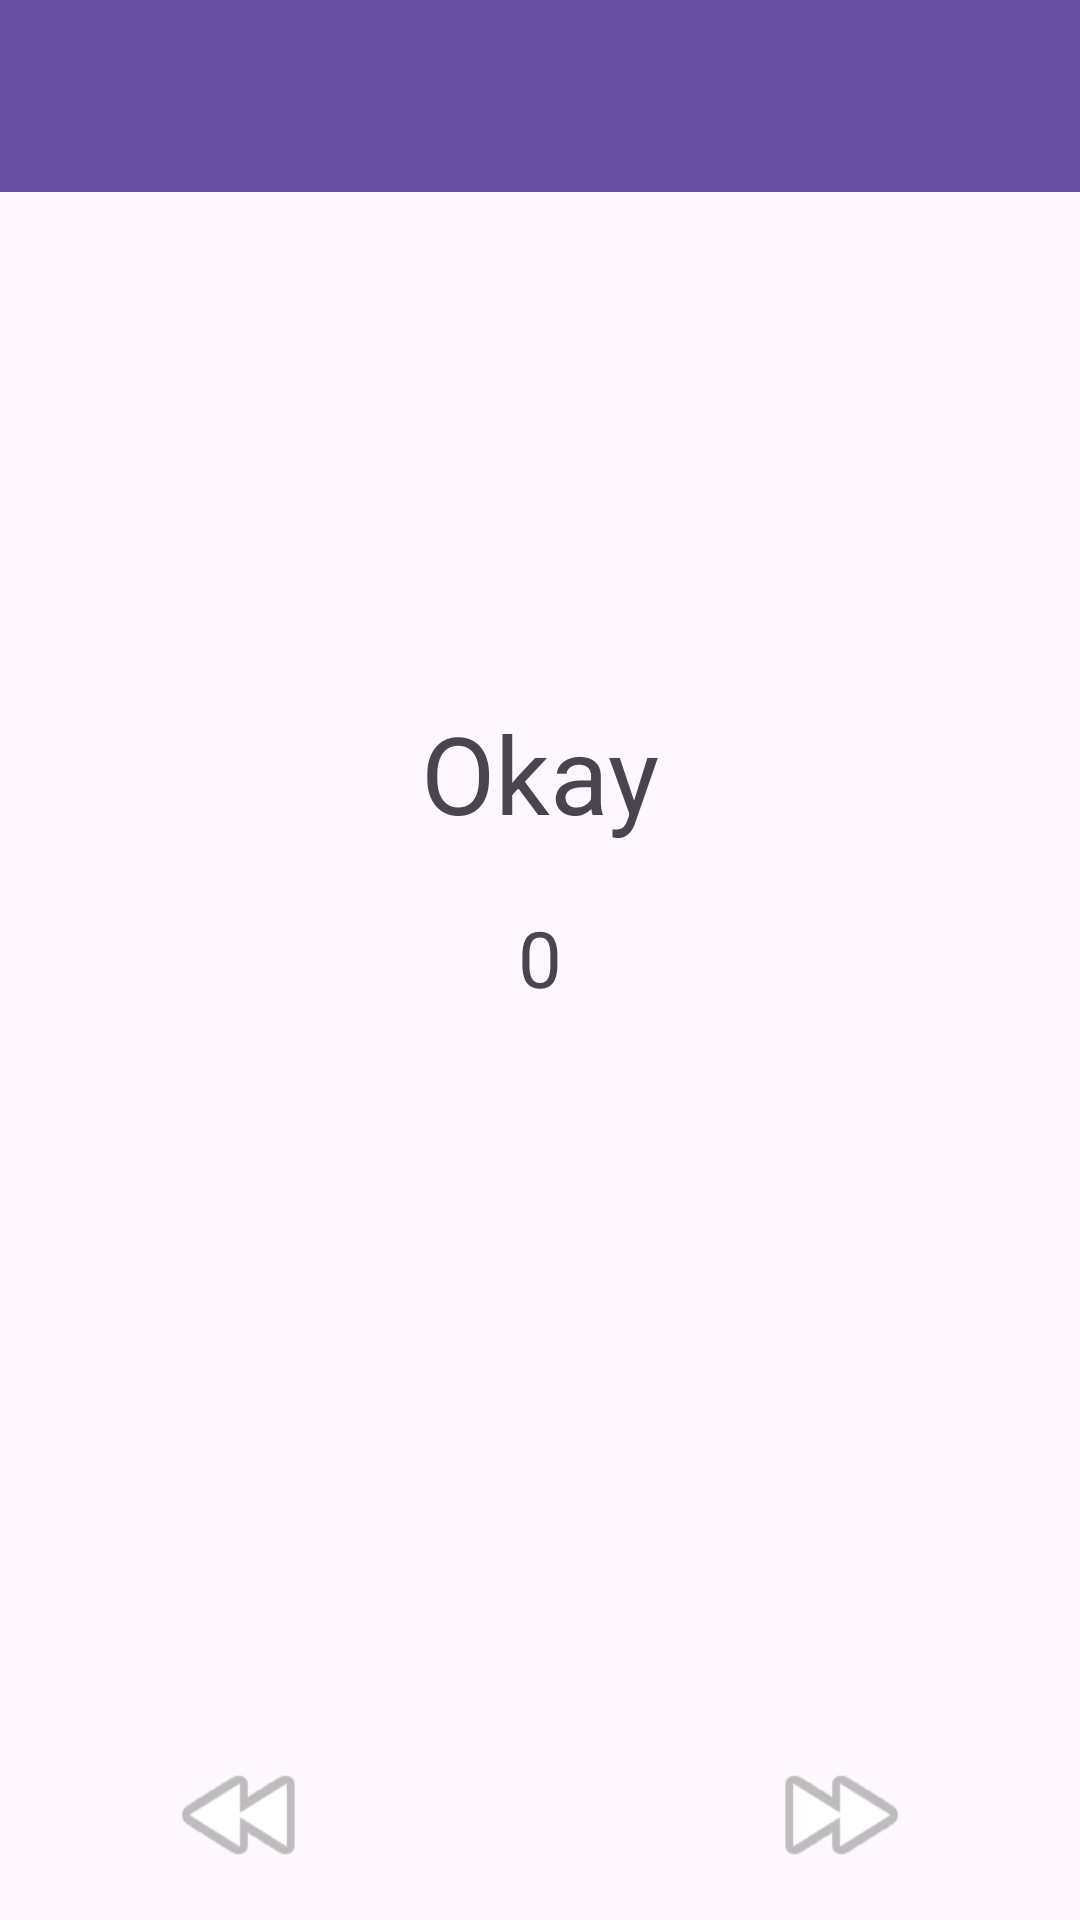

Locate icon controls on the screen. Image size 1080w x 1920h, boxes as (x1, y1, x2, y2).
rew: (182, 1776, 295, 1854)
